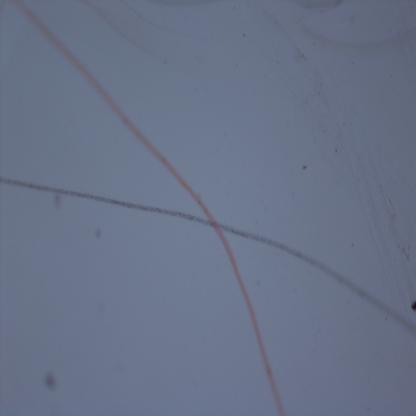Background material: (37, 367, 61, 394), (290, 41, 306, 65), (51, 188, 66, 213), (93, 226, 105, 242), (405, 296, 416, 313)
Microfibre: (13, 0, 285, 415), (0, 161, 416, 336)
